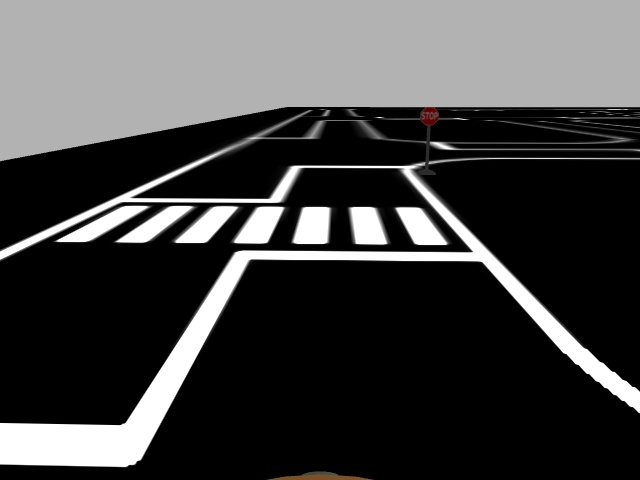stop: (418, 106, 440, 126)
